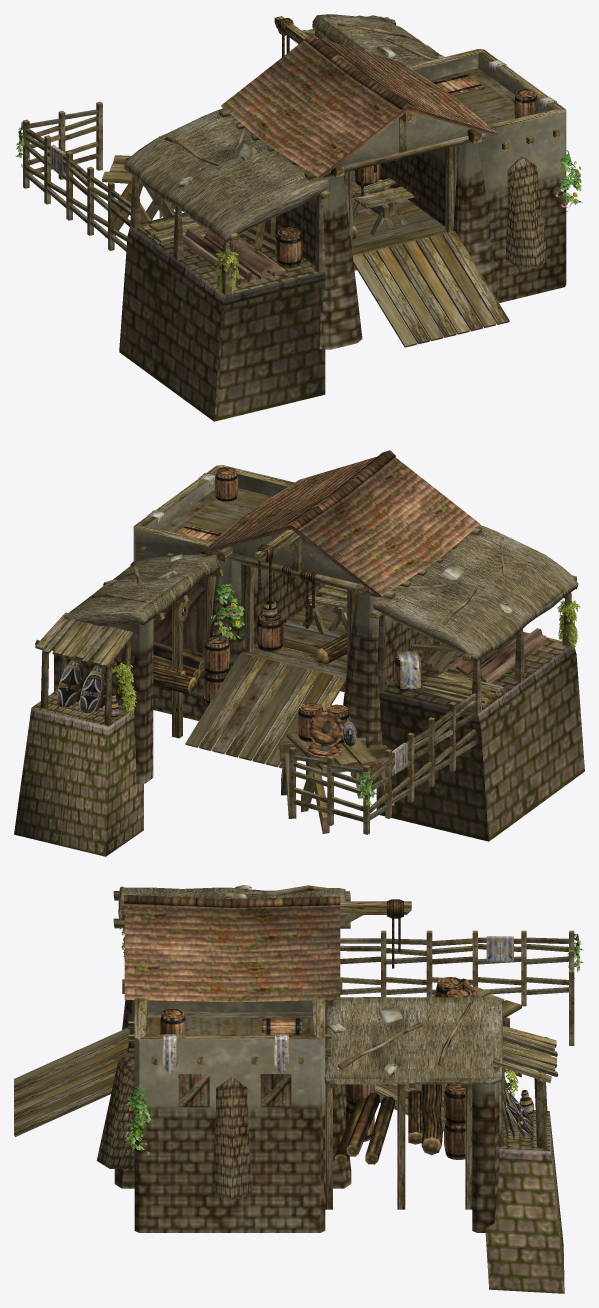
The model's file is s_iberians_workshop.glb.
3 renders of one model, top to bottom at view 1: azimuth 30°, elevation 25°; view 2: azimuth 150°, elevation 25°; view 3: azimuth 270°, elevation 25°, orthographic. The views are drawn at different scales.
Visible parts, largest first — view 1: s_iberians_workshop_part0, s_iberians_workshop_part1; view 2: s_iberians_workshop_part0, s_iberians_workshop_part1, s_iberians_workshop_part2; view 3: s_iberians_workshop_part0, s_iberians_workshop_part1, s_iberians_workshop_part2.
Boxes of the visible parts, x1,y1,x2,y2 form: s_iberians_workshop_part0: (23,14,566,421); s_iberians_workshop_part1: (15,122,582,297); s_iberians_workshop_part0: (14,450,584,856); s_iberians_workshop_part1: (112,583,580,813); s_iberians_workshop_part2: (56,601,356,747); s_iberians_workshop_part0: (14,885,574,1293); s_iberians_workshop_part1: (119,928,583,1156); s_iberians_workshop_part2: (502,1087,533,1140).
Bounding box in the file's own units: 4.3 × 2.96 × 5.
Materials: 3 (3 with a texture image).
